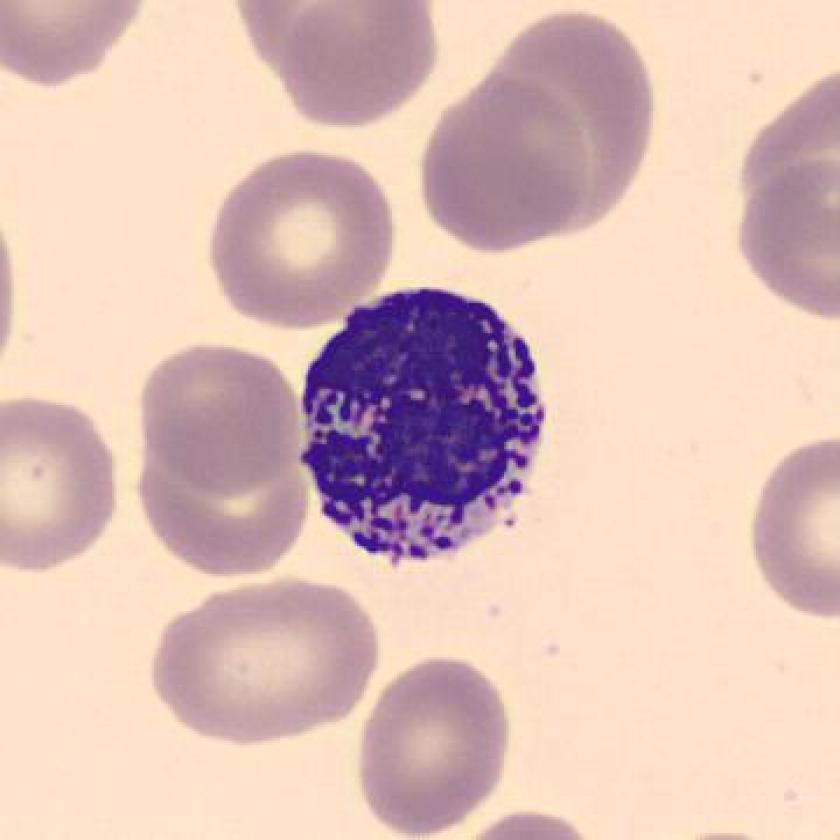basophil: (300, 279, 547, 566)
